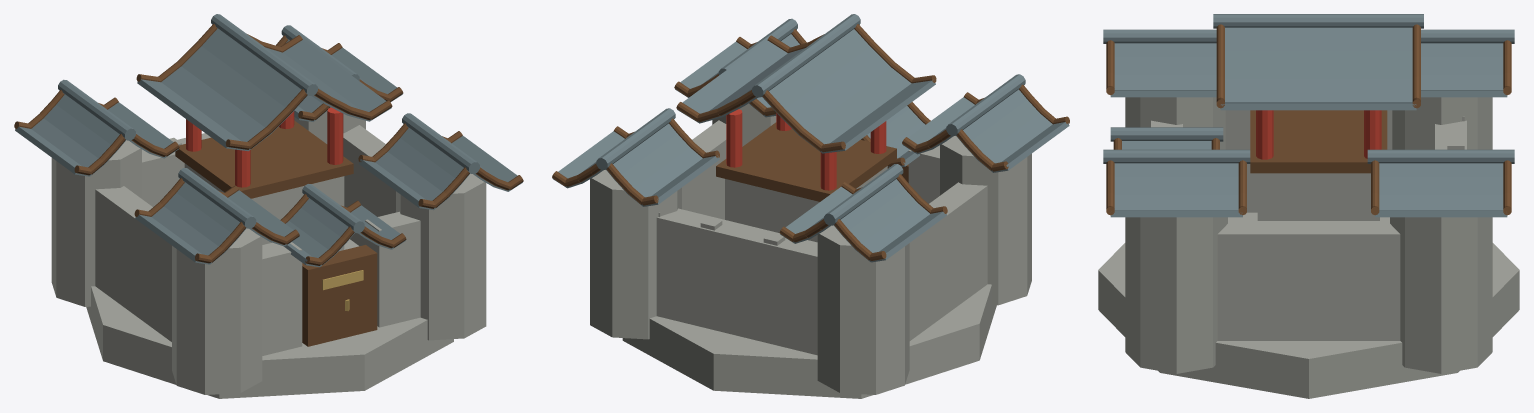
The model's file is field-fort.glb.
3 renders of one model, left to right at view 1: azimuth 30°, elevation 25°; view 2: azimuth 150°, elevation 25°; view 3: azimuth 270°, elevation 25°, orthographic. The views are drawn at different scales.
Parts seen in each view (by area): view 1: fort_stone_foundation, fort_corner_tower_0, fort_corner_tower_1, fort_keep_roof, fort_wall_west, fort_corner_tower_2, fort_keep_band, fort_gate, fort_wall_south_right, fort_wall_south_left, fort_corner_roof_1, fort_corner_roof_0 (+21 smaller); view 2: fort_wall_north, fort_stone_foundation, fort_corner_tower_2, fort_corner_tower_3, fort_keep_roof, fort_wall_west, fort_corner_tower_0, fort_keep_band, fort_corner_roof_0, fort_corner_roof_3, fort_corner_roof_2, fort_keep_roof.001 (+17 smaller); view 3: fort_wall_east, fort_keep_roof.001, fort_stone_foundation, fort_corner_tower_1, fort_corner_tower_3, fort_corner_roof_1.001, fort_corner_roof_3.001, fort_keep_band, fort_corner_roof_0.001, fort_keep, fort_corner_roof_2.001, fort_corner_tower_2 (+12 smaller).
Part boxes in pixels (x1,y1,x2,y2): fort_stone_foundation: (86,239,453,398); fort_corner_tower_0: (172,228,262,394); fort_corner_tower_1: (396,173,486,340); fort_keep_roof: (137,28,307,151); fort_wall_west: (95,186,171,341); fort_corner_tower_2: (51,140,141,306); fort_keep_band: (175,120,353,198); fort_gate: (302,245,377,346); fort_wall_south_right: (365,211,420,327); fort_wall_south_left: (262,242,302,355); fort_corner_roof_1: (359,128,470,210); fort_corner_roof_0: (135,183,246,264); fort_wall_north: (656,208,817,355); fort_stone_foundation: (622,284,996,398); fort_corner_tower_2: (817,225,909,394); fort_corner_tower_3: (590,170,681,339); fort_keep_roof: (762,29,935,153); fort_wall_west: (909,182,987,340); fort_corner_tower_0: (940,136,1031,305); fort_keep_band: (716,122,896,201); fort_corner_roof_0: (956,89,1069,172); fort_corner_roof_3: (606,123,719,206); fort_corner_roof_2: (834,179,946,262); fort_keep_roof.001: (677,40,805,123); fort_wall_east: (1217,221,1400,340); fort_keep_roof.001: (1220,27,1416,110); fort_stone_foundation: (1098,212,1519,398); fort_corner_tower_1: (1125,217,1227,373); fort_corner_tower_3: (1390,217,1492,373); fort_corner_roof_1.001: (1110,163,1242,217); fort_corner_roof_3.001: (1375,163,1507,217); fort_keep_band: (1250,110,1387,173); fort_corner_roof_0.001: (1110,43,1216,97); fort_keep: (1257,173,1379,220); fort_corner_roof_2.001: (1421,43,1507,97); fort_corner_tower_2: (1392,97,1492,149).
Size of the model in its own units: 0.86 by 0.665 by 0.86.
